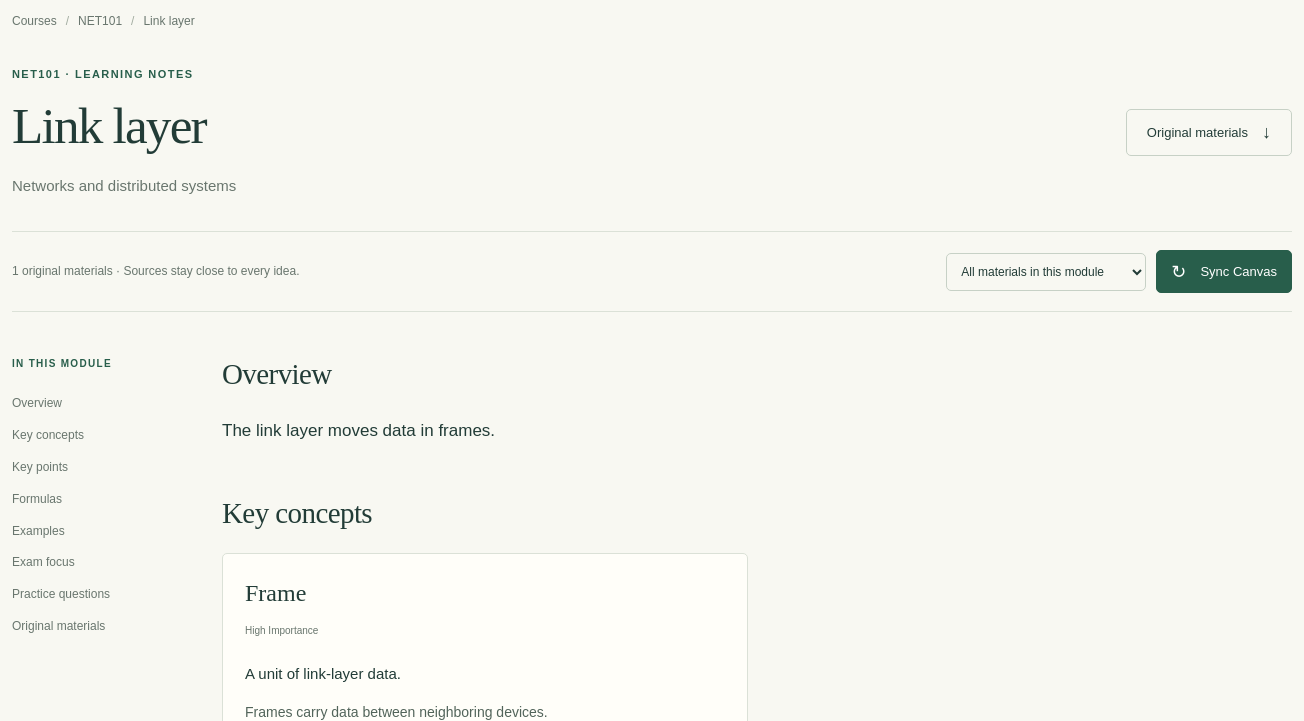
Test: Canvas sync › can scope sync to a single known material
The image size is (1304, 721).
Select "Lecture.pdf" in the dropdown named "Sync scope" at (1046, 272), box [946,253,1146,291]
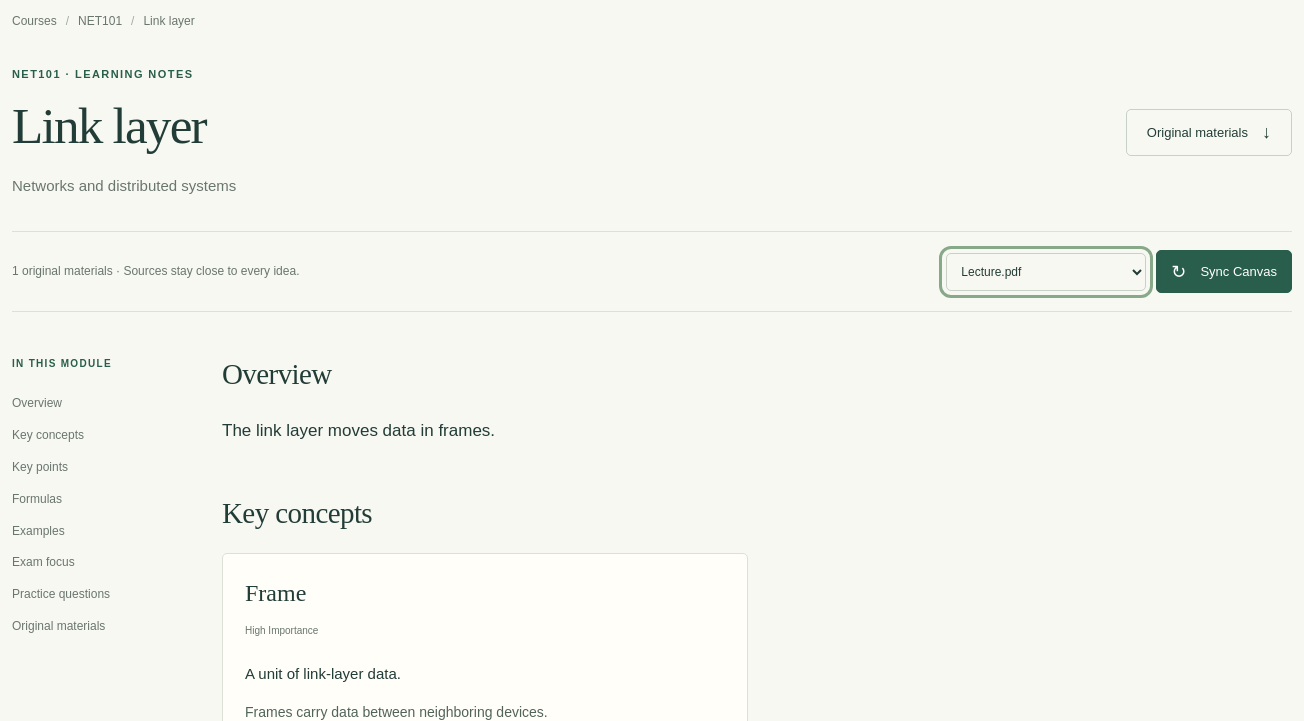
Click the button "↻ Sync Canvas" at (1224, 272), box [1156,250,1292,293]
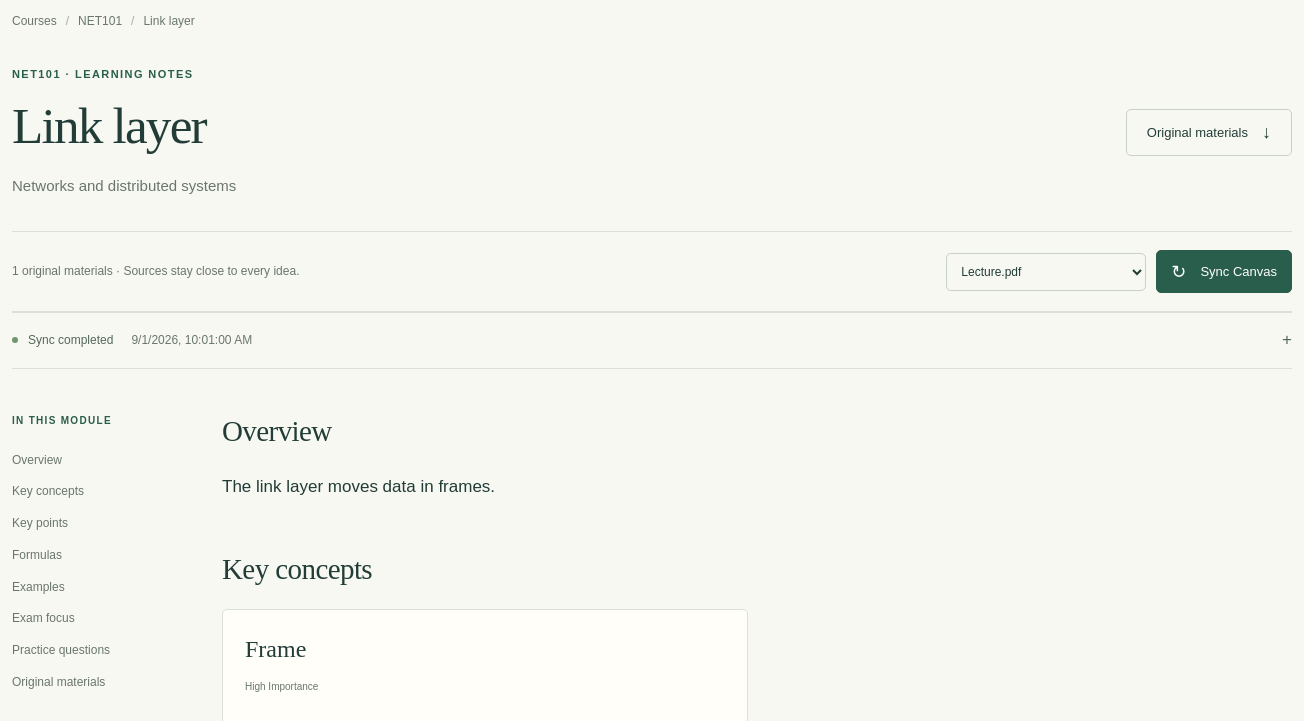
Expected: the heading "Sync completed 9/1/2026, 10:01:00 AM" is shown, [12,333,252,347]
